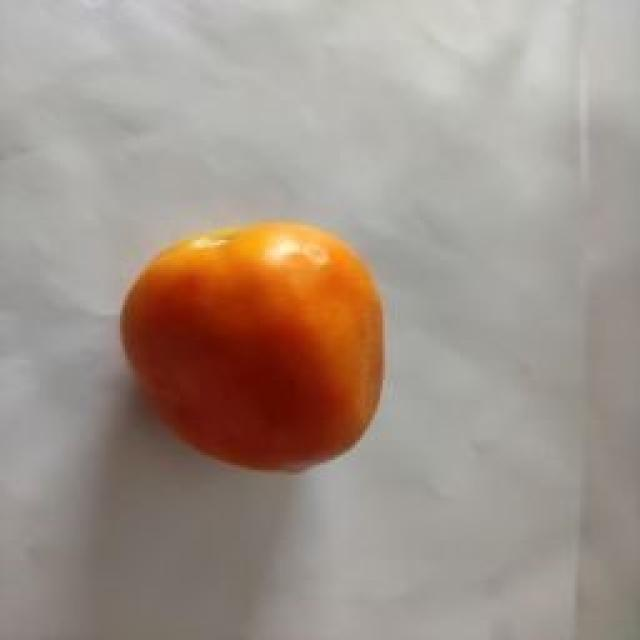Ripe: (122, 218, 390, 477)
